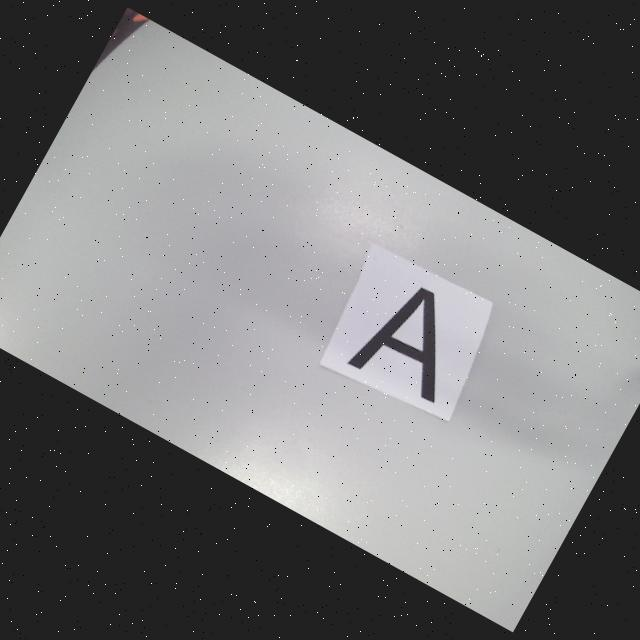FAKE: (348, 274, 481, 409)
